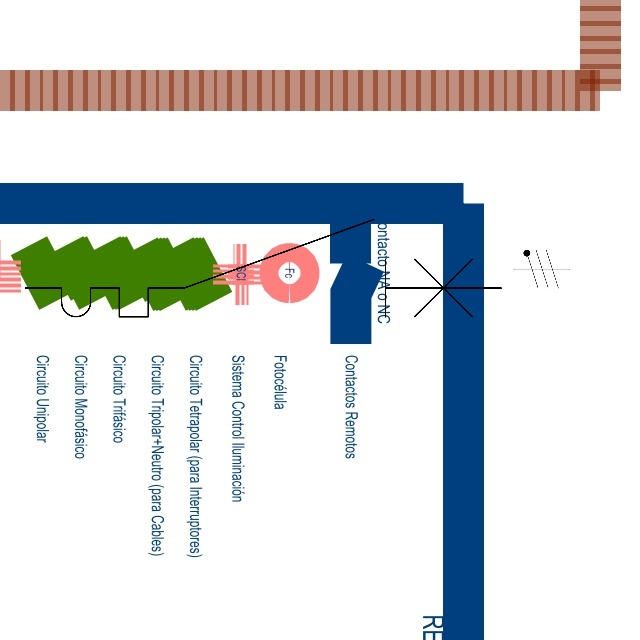interruptor_termomagnetico: (13, 207, 513, 329)
